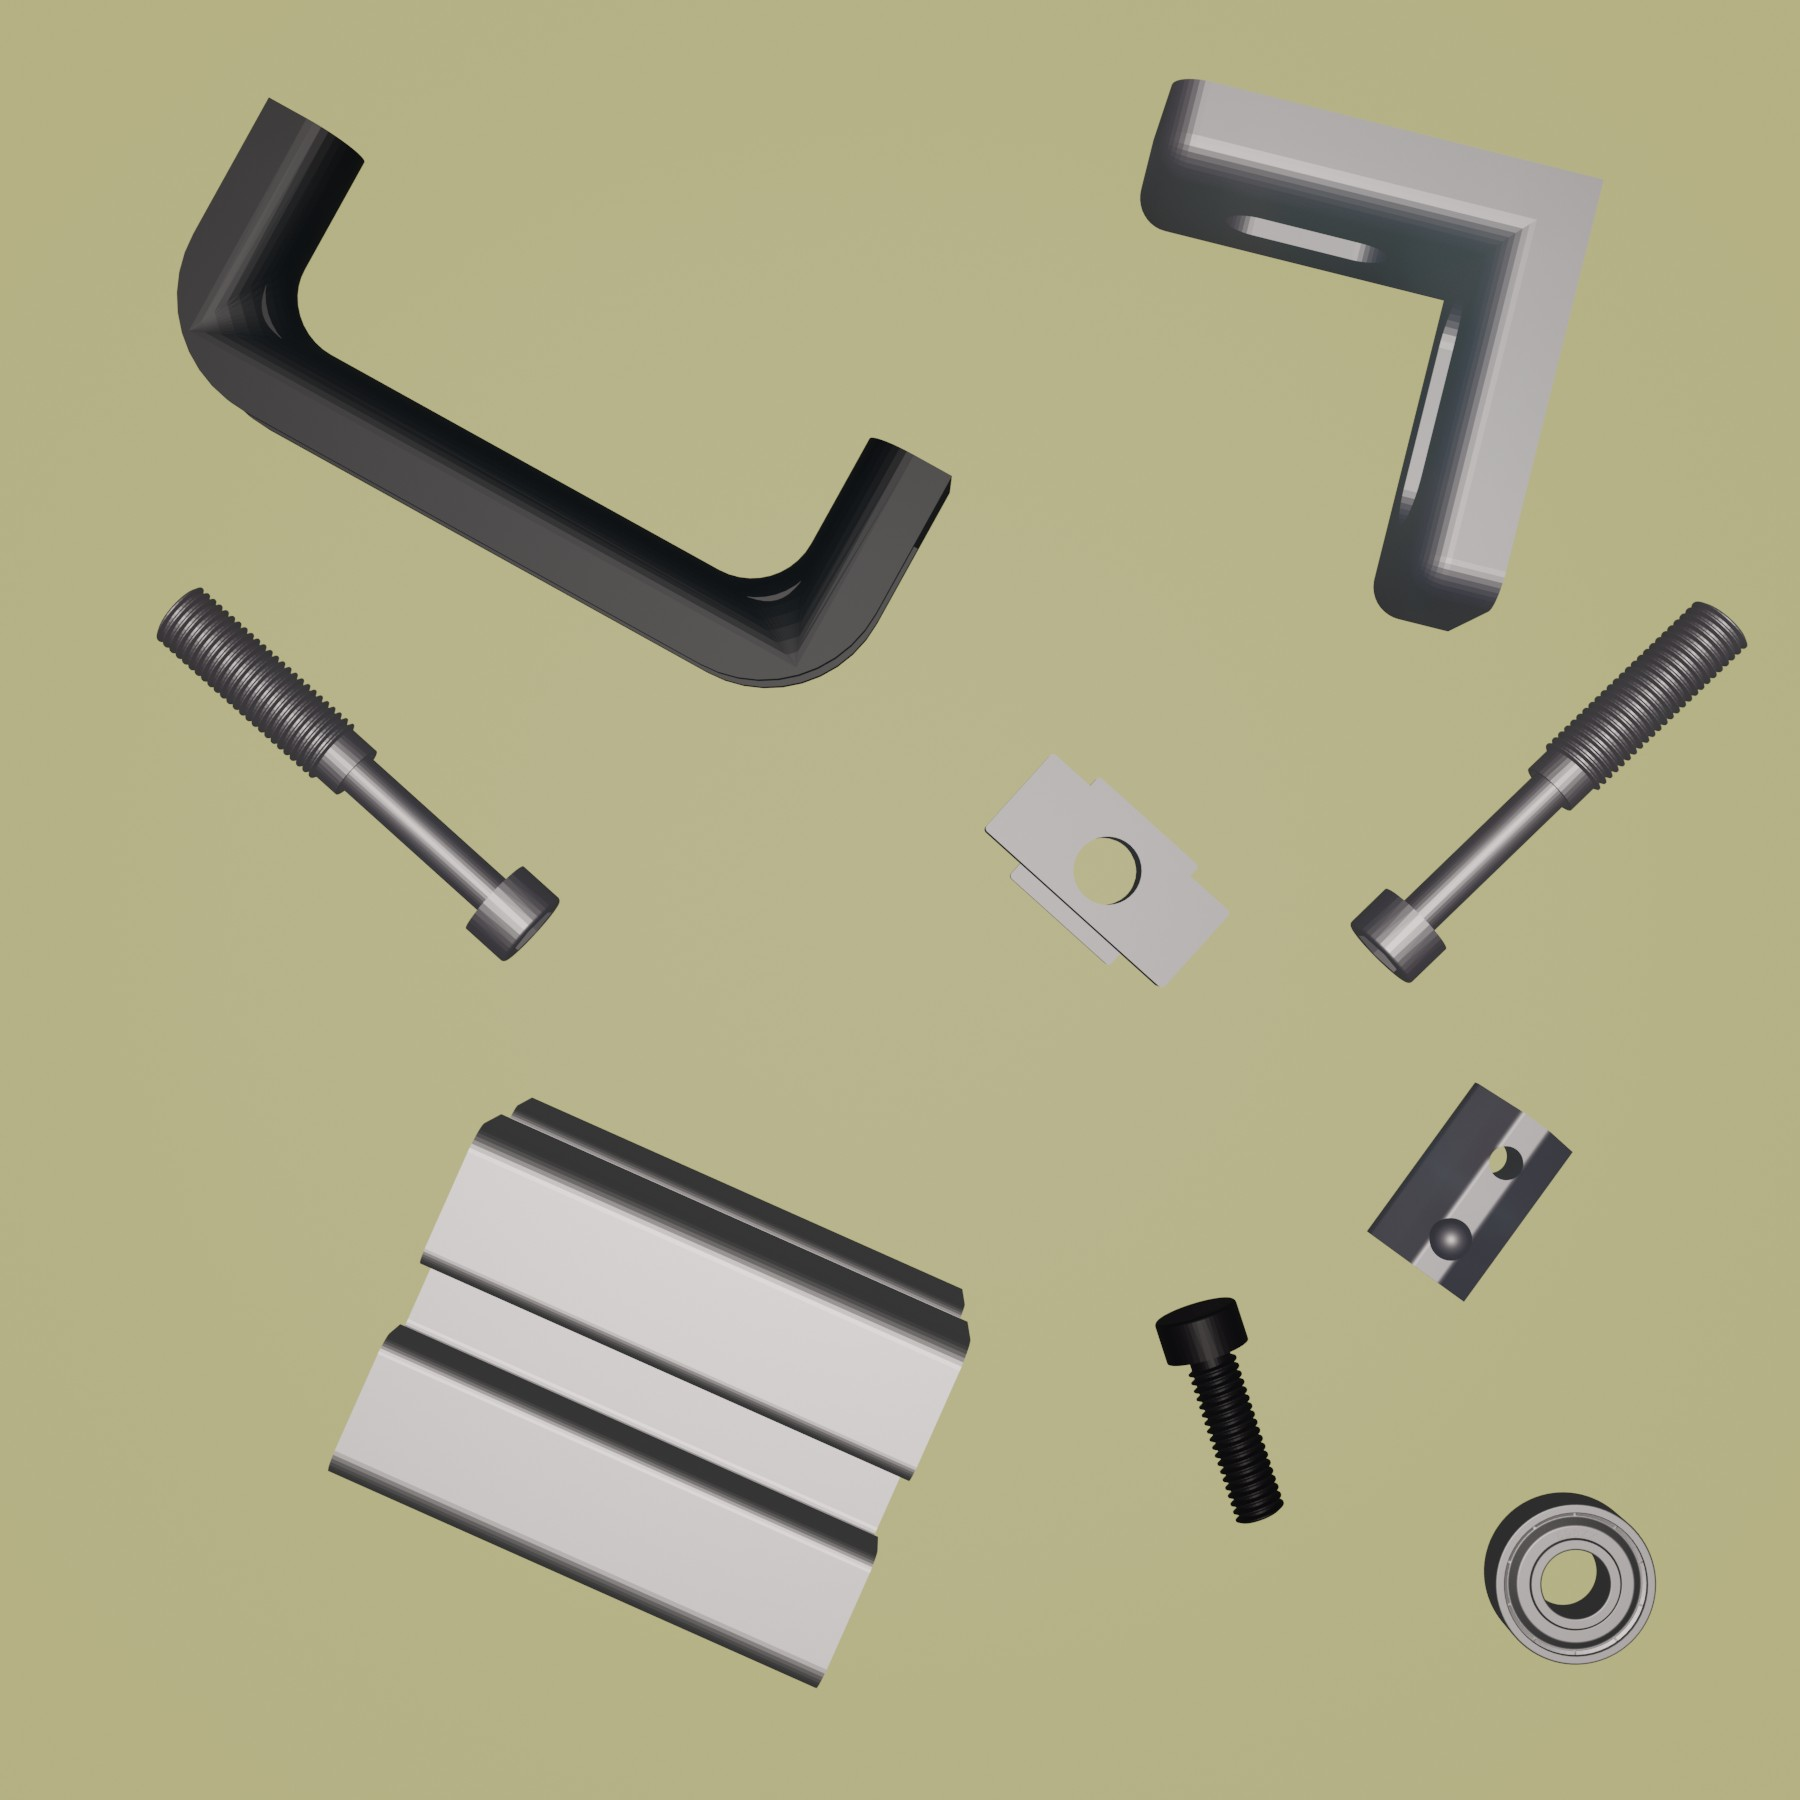Aluminium Extension: (325, 1091, 971, 1691)
Ball Bearing: (1480, 1492, 1658, 1668)
Multiwinkel: (1139, 77, 1605, 635)
Pull Handle: (175, 92, 954, 689)
Shoulder Socket Head Cap Screw: (153, 582, 560, 964), (1348, 598, 1747, 986)
Socket Head Cap Screw: (1155, 1296, 1286, 1526)
T Nut Square: (982, 745, 1236, 992)
T Spring Nut: (1366, 1080, 1576, 1305)
